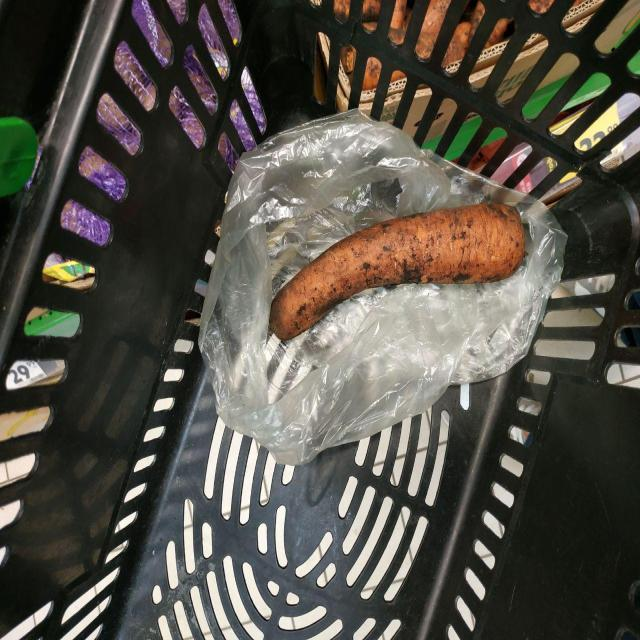Carrot: (269, 203, 525, 340)
